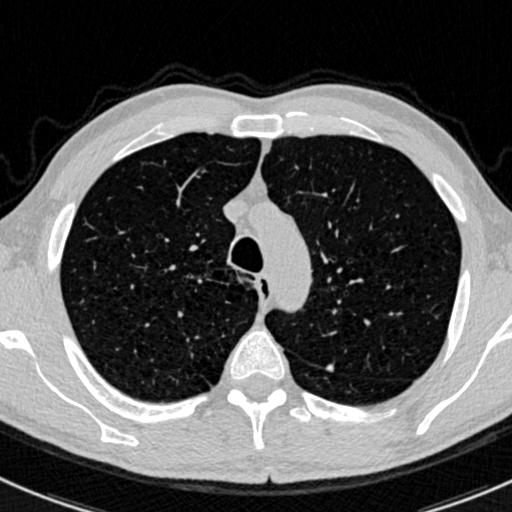nodule: (324, 362, 337, 375)
